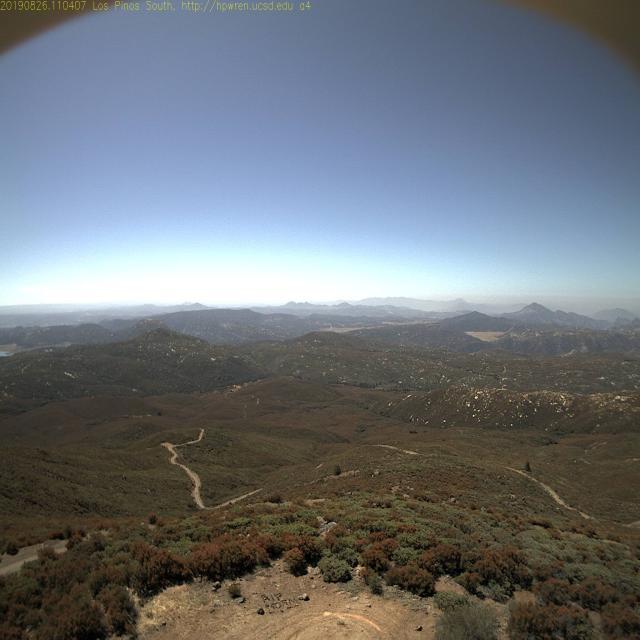smoke: (383, 300, 396, 319)
